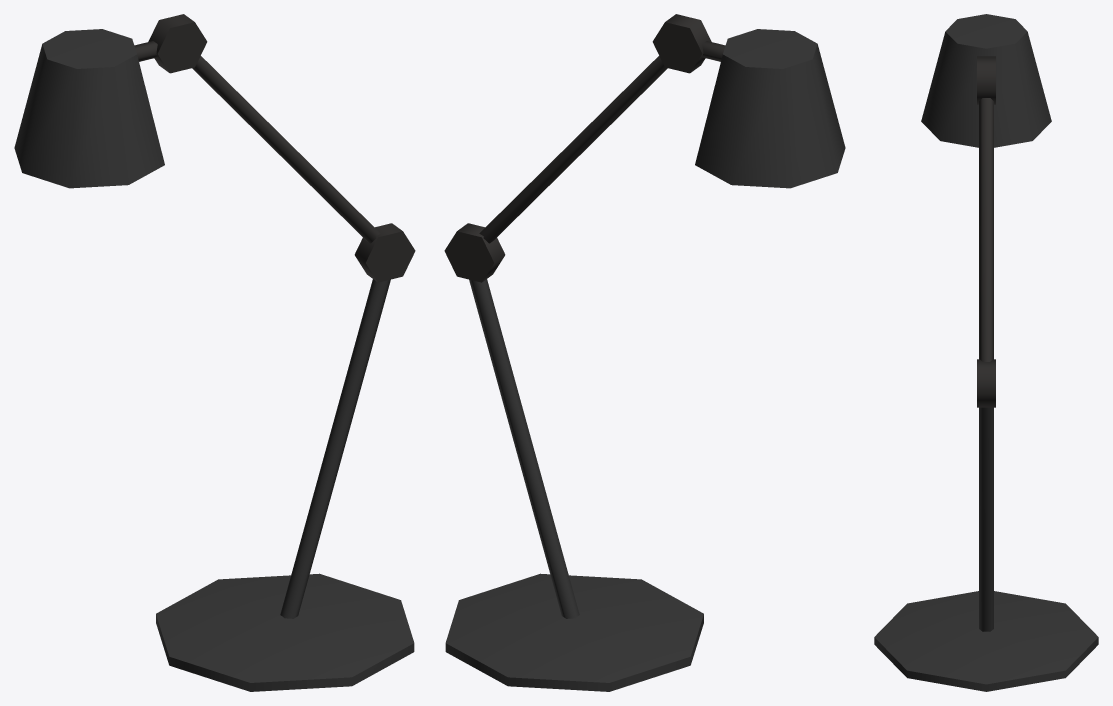
File: desk stand.FBX
3 renders of one model, left to right at view 1: azimuth 30°, elevation 25°; view 2: azimuth 150°, elevation 25°; view 3: azimuth 270°, elevation 25°, orthographic. The views are drawn at different scales.
Visible parts, largest first — view 1: desk stand; view 2: desk stand; view 3: desk stand.
Boxes of the visible parts, <box> form: desk stand: <box>14,14,415,691</box>; desk stand: <box>444,14,845,691</box>; desk stand: <box>874,14,1098,691</box>.
Bounding box in the file's own units: 43.03 × 68.14 × 25.72.
Materials: 1 (1 with a texture image).
